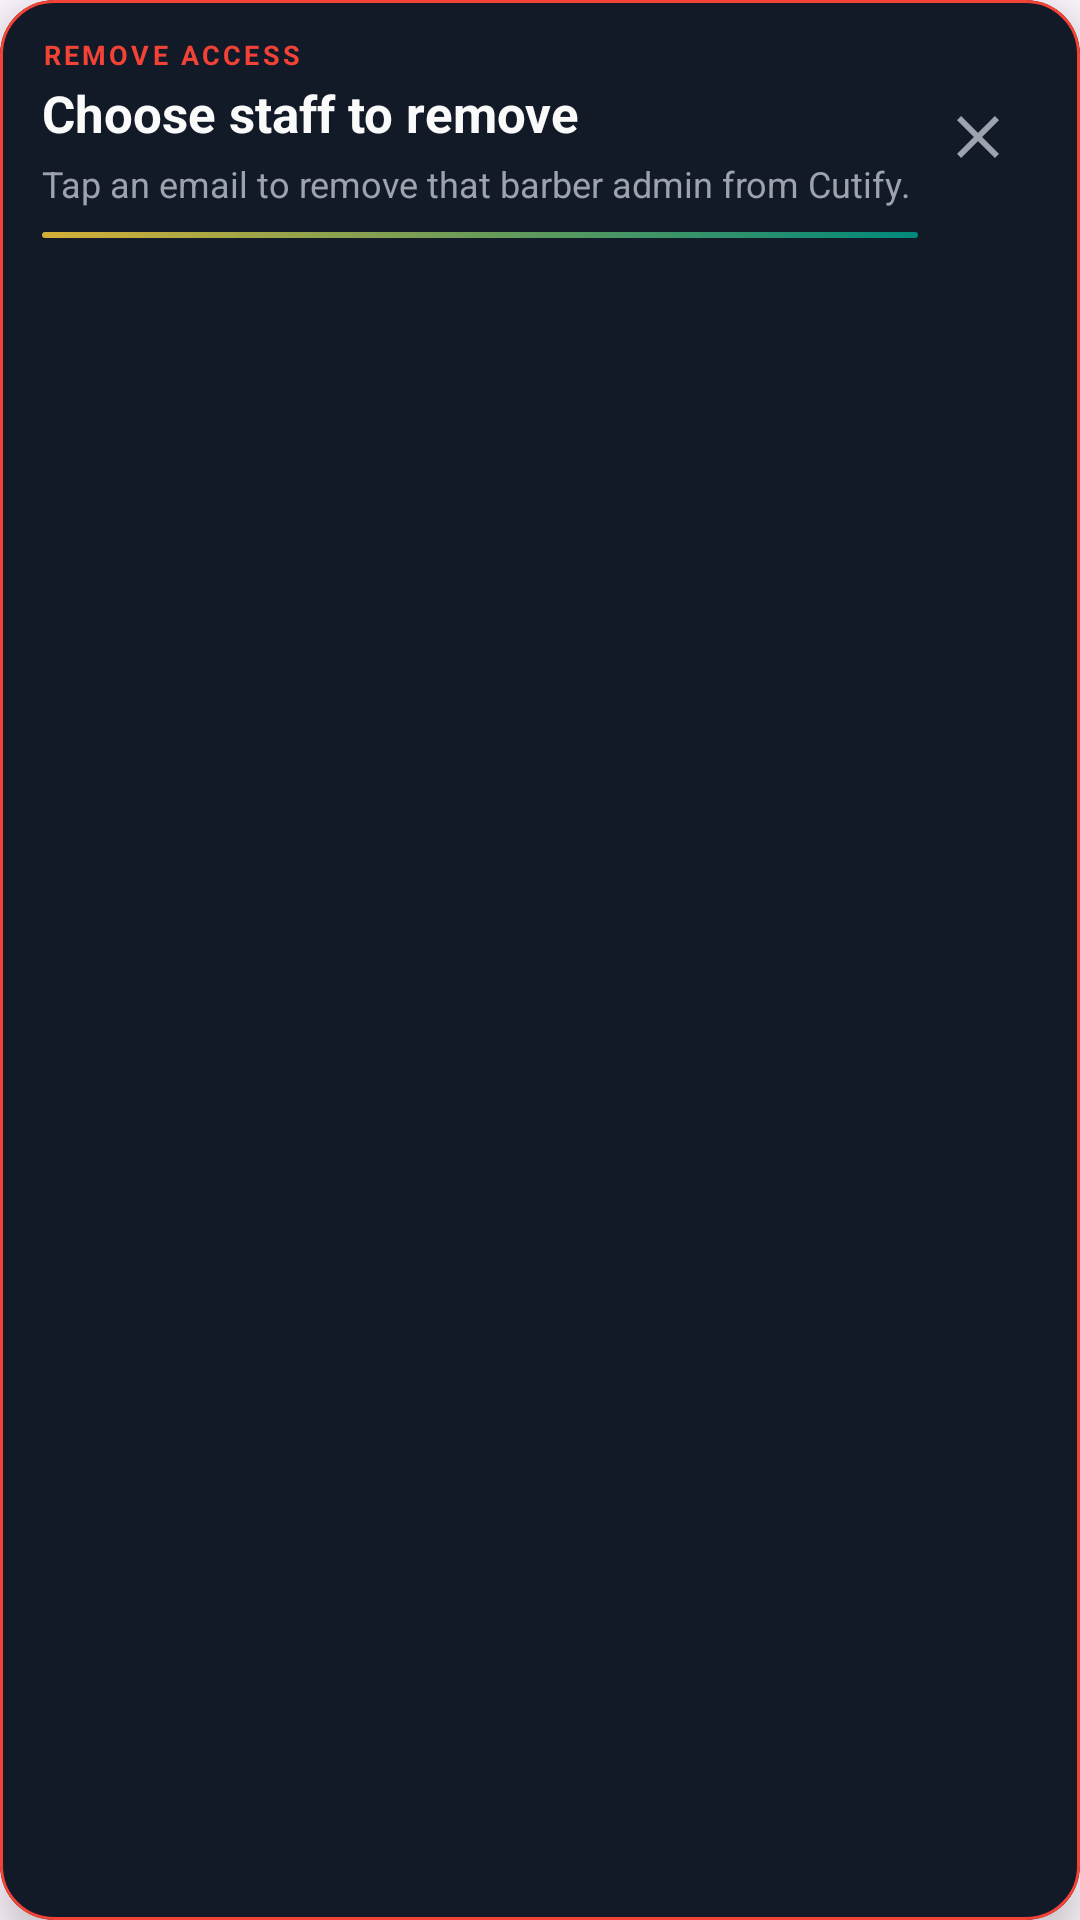

Where to tap for icons on this 1080px×1920px app screen, as (x,y):
Close: (978,137)
